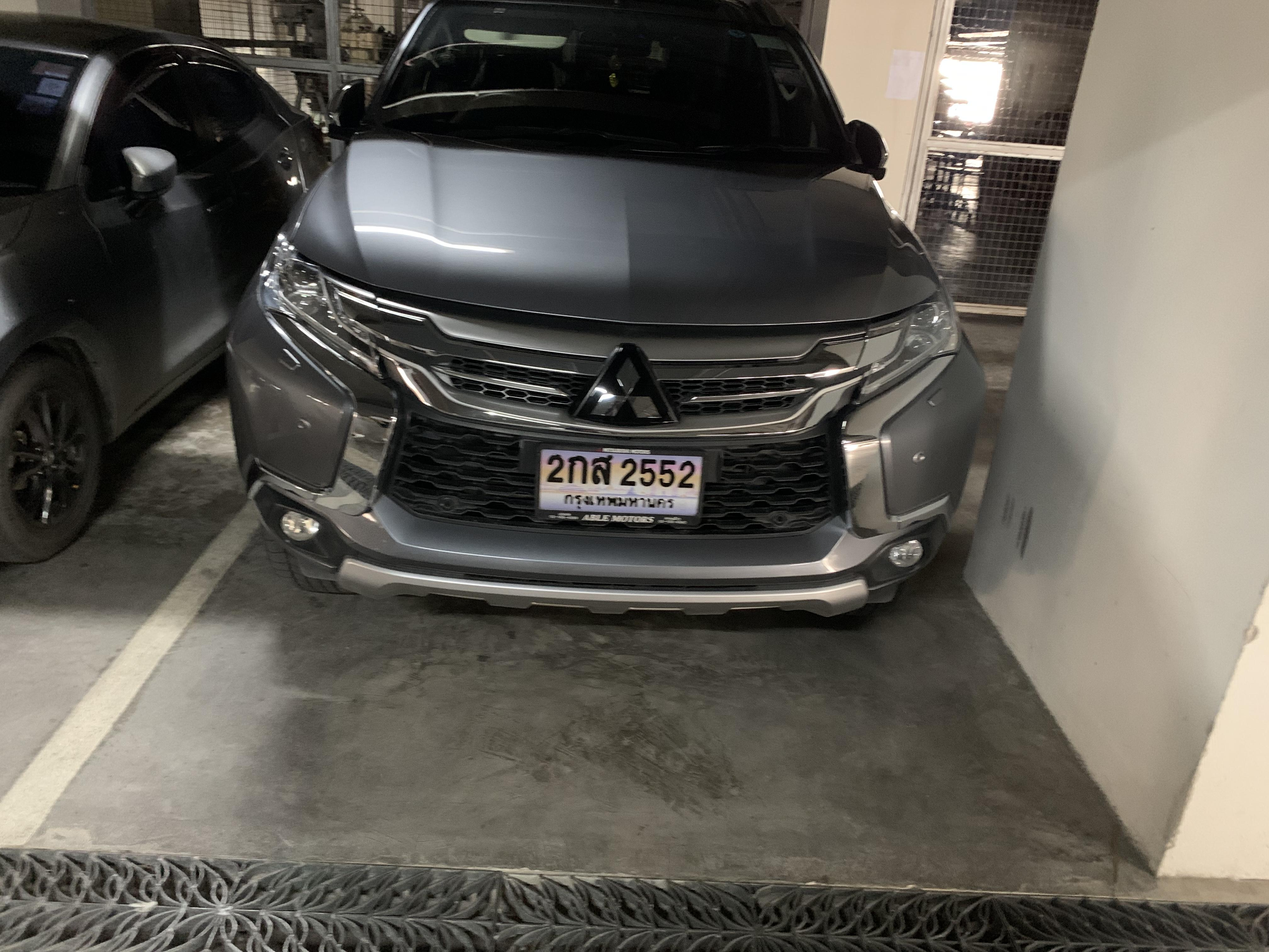license-plate: (531, 444, 713, 527)
